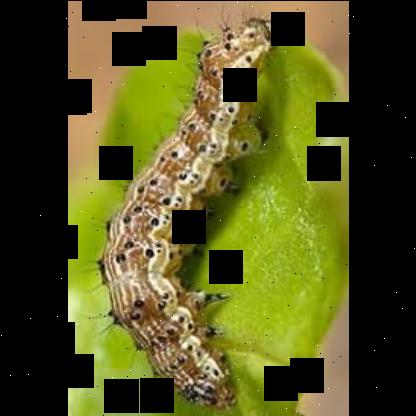oruga: (88, 13, 292, 406)
